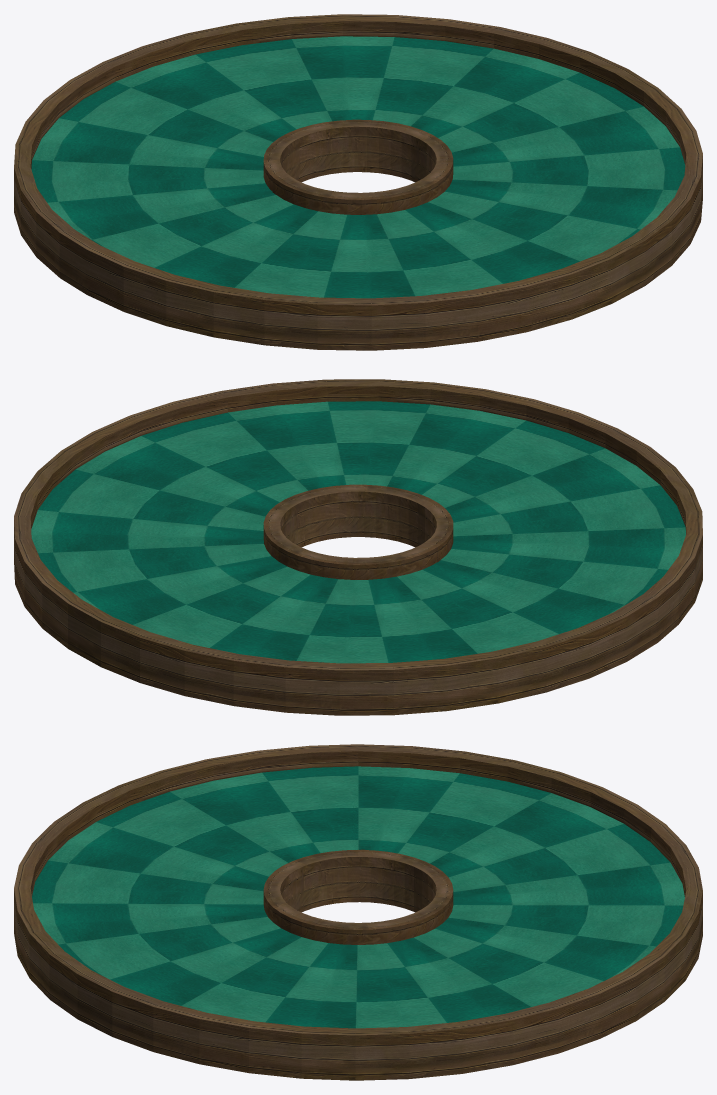
Rendered from PartBigCurveB360.gltf.
3 renders of one model, top to bottom at view 1: azimuth 30°, elevation 25°; view 2: azimuth 150°, elevation 25°; view 3: azimuth 270°, elevation 25°, orthographic.
Parts seen in each view (by area): view 1: PartBigCurveB360_glb; view 2: PartBigCurveB360_glb; view 3: PartBigCurveB360_glb.
Boxes of the visible parts, x1,y1,x2,y2 form: PartBigCurveB360_glb: [14, 14, 702, 350]; PartBigCurveB360_glb: [14, 379, 702, 715]; PartBigCurveB360_glb: [14, 744, 702, 1080].
Size of what is drawn, in the model's own units: 10.35 by 0.75 by 10.35.
Materials: 2 (2 with a texture image).
